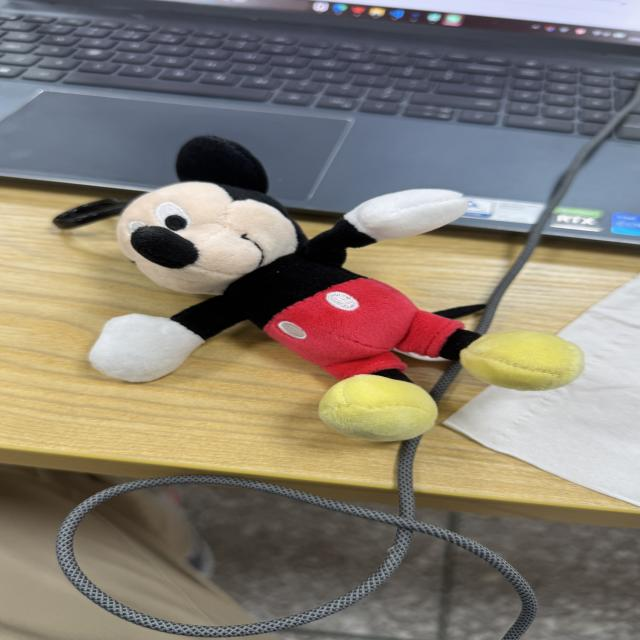mickey: (90, 137, 582, 440)
